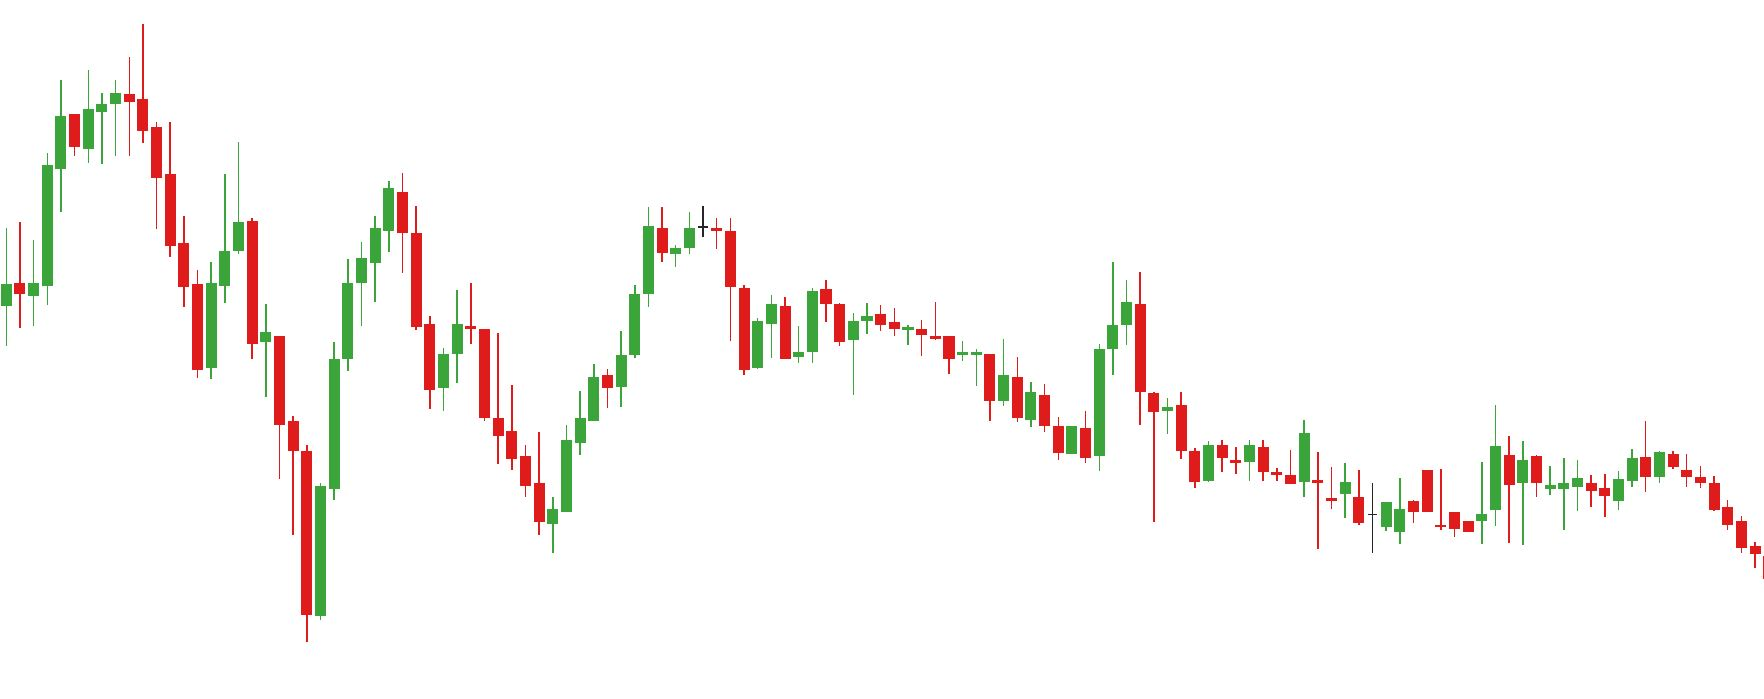sell: (933, 252, 1147, 370)
